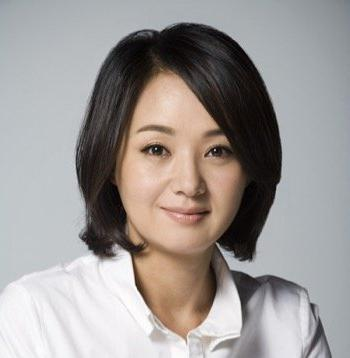Sober: (130, 88, 238, 251)
